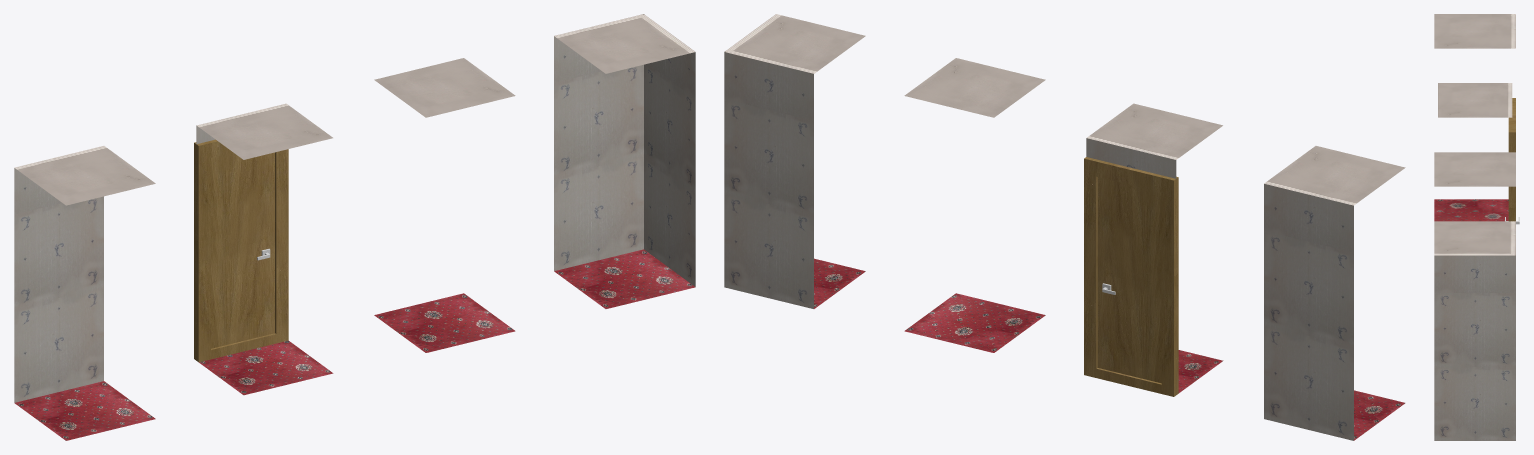
Rendered from intile.glb.
3 renders of one model, left to right at view 1: azimuth 30°, elevation 25°; view 2: azimuth 150°, elevation 25°; view 3: azimuth 270°, elevation 25°, orthographic. The views are drawn at different scales.
Parts seen in each view (by area): view 1: corner-in-col, door-col, wall-col, floor-col; view 2: door-col, corner-in-col, wall-col, floor-col; view 3: corner-in-col, wall-col, door-col, floor-col.
Boxes of the visible parts, <box> form: corner-in-col: <box>554,14,695,308</box>; door-col: <box>194,103,333,395</box>; wall-col: <box>14,146,155,440</box>; floor-col: <box>374,58,515,352</box>; door-col: <box>1084,103,1223,396</box>; corner-in-col: <box>724,14,865,308</box>; wall-col: <box>1264,146,1405,440</box>; floor-col: <box>904,58,1045,352</box>; corner-in-col: <box>1434,221,1515,440</box>; wall-col: <box>1434,14,1515,221</box>; door-col: <box>1438,83,1519,224</box>; floor-col: <box>1434,152,1515,186</box>.
Size of the model in its own units: 7 by 2.5 by 1.05.
5 materials, 4 textured.
